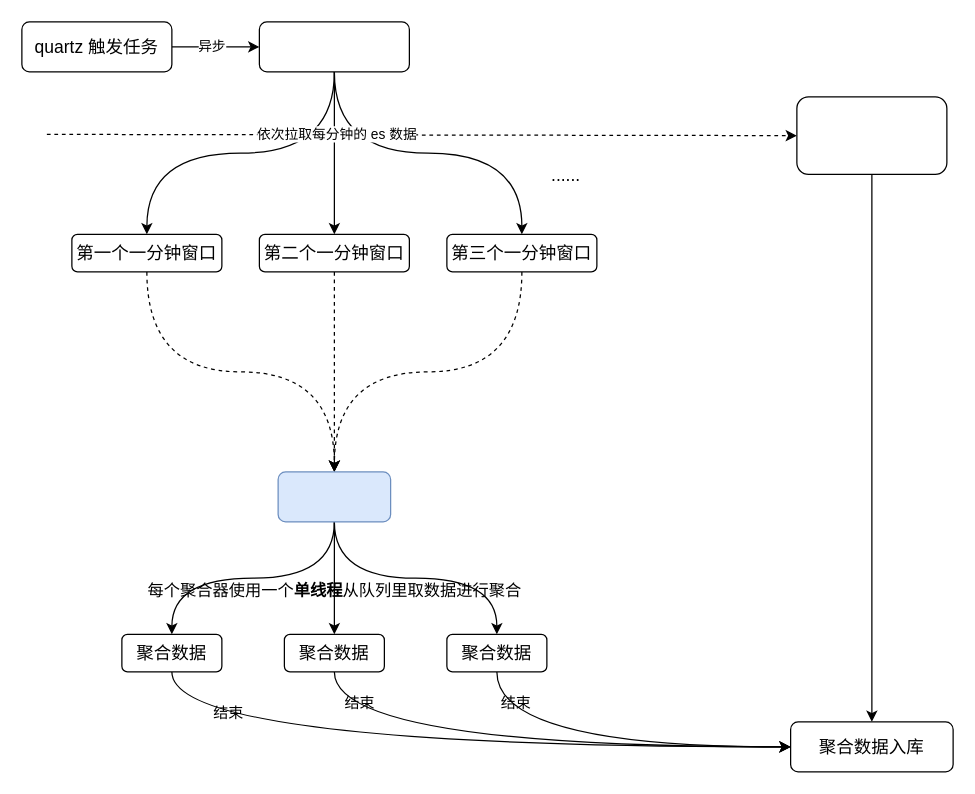
This 975x794 diagram has some shape labels left out. Each missing label, with the centre of its shape:
"全部的一分钟窗口均拉取完毕，触发整体结束事件" belongs at (x=871, y=135).
"拉取 es 数据" belongs at (x=333, y=46).
"数据队列" belongs at (x=334, y=496).
